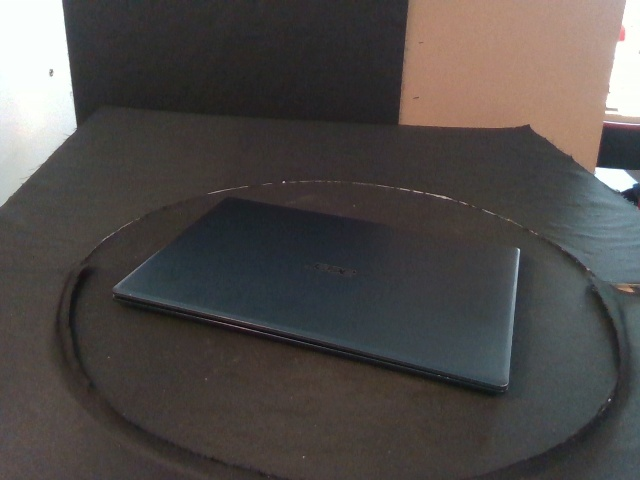laptop: (111, 195, 520, 398)
